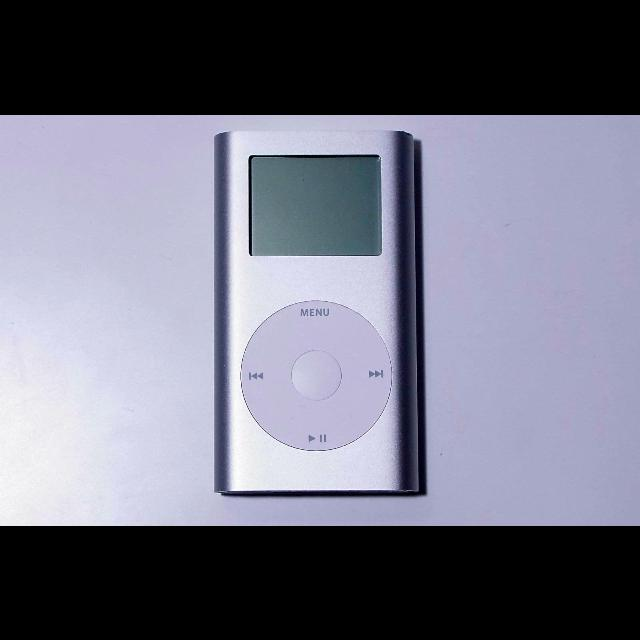Music-Player: (205, 123, 428, 507)
